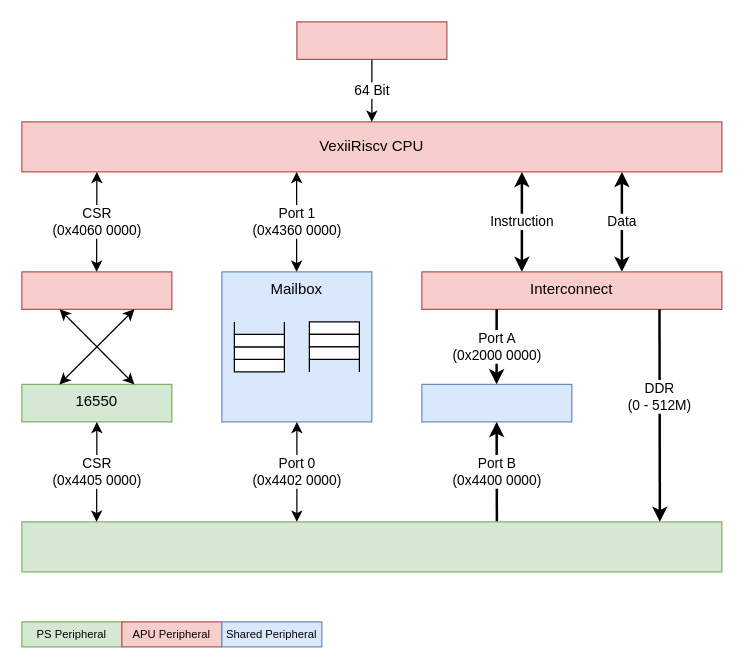
The diagram is 744 pixels wide and 669 high, and some of its shapes have lost their labels. Here are the shapes that lost their labels. From the top down, the box of each, then its label:
(296, 21, 447, 59): tsc counter
(21, 271, 172, 309): uartlite
(421, 383, 572, 422): SRAM
(21, 521, 722, 572): Zynq PS
